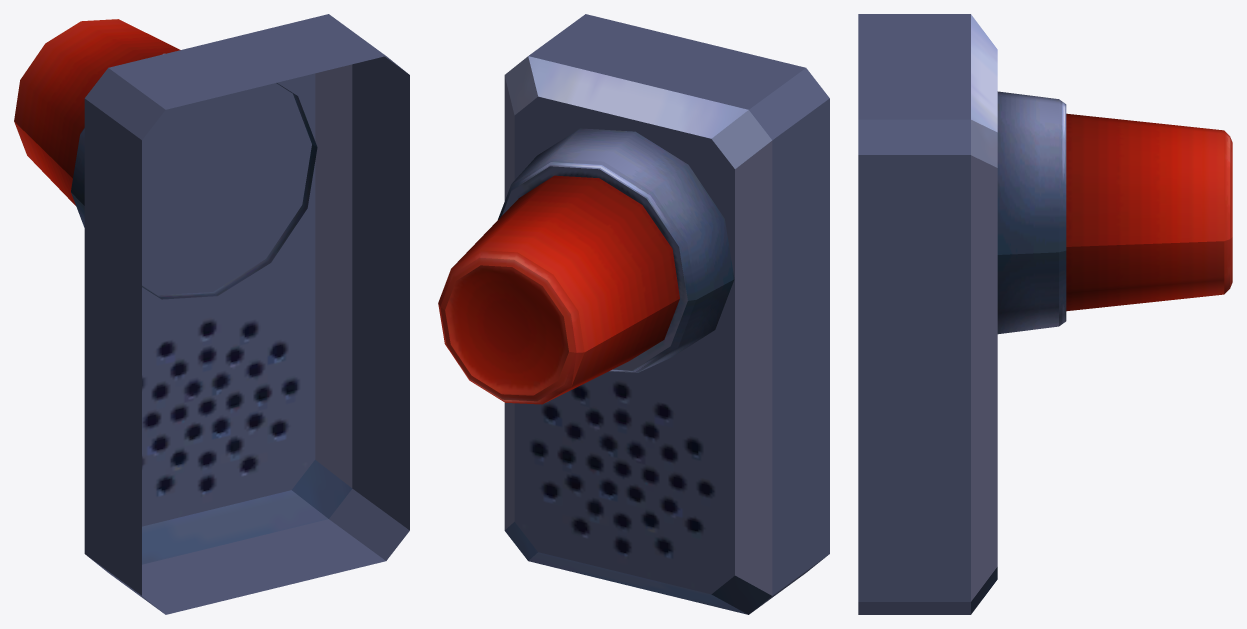
The model's file is alarm.FBX.
3 renders of one model, left to right at view 1: azimuth 30°, elevation 25°; view 2: azimuth 150°, elevation 25°; view 3: azimuth 270°, elevation 25°, orthographic.
Visible parts, largest first — view 1: Mesh_0059; view 2: Mesh_0059; view 3: Mesh_0059.
Part boxes in pixels (box(x1,y1,x2,y2)): Mesh_0059: box(14, 14, 409, 614); Mesh_0059: box(438, 14, 829, 614); Mesh_0059: box(858, 14, 1232, 614).
Bounding box in the file's own units: 167 × 300 × 206.
